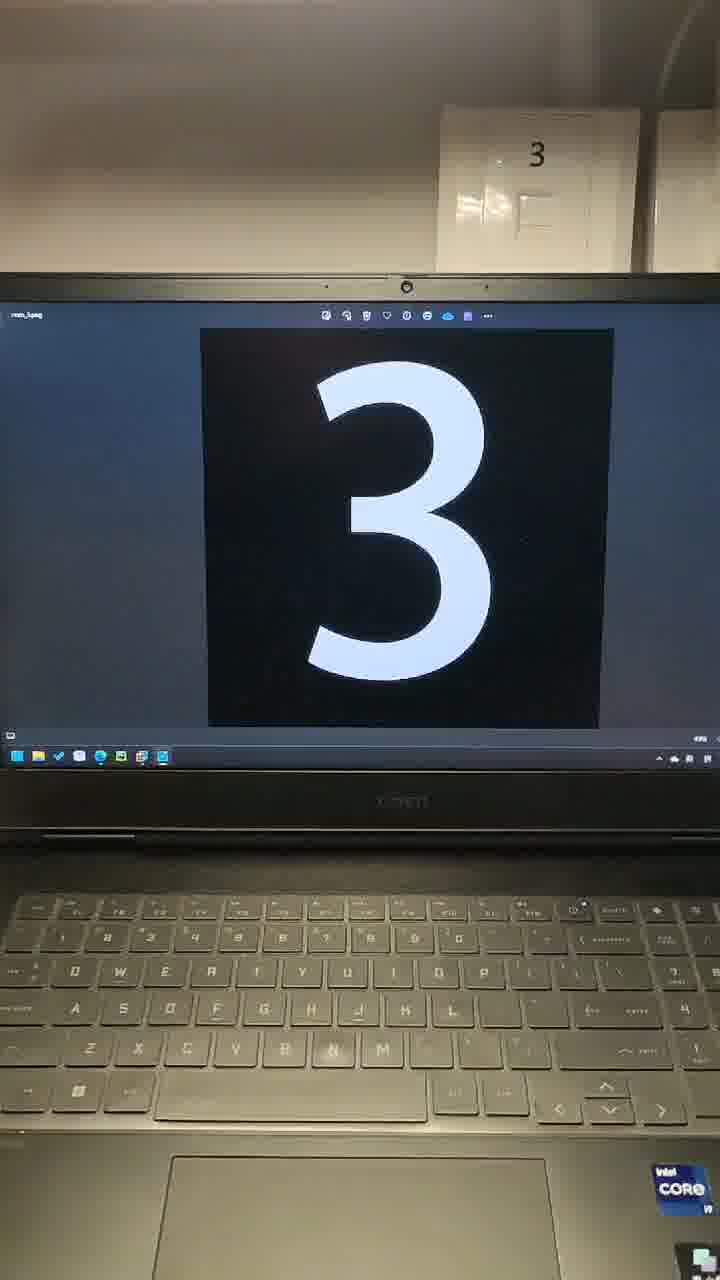three: (257, 329, 523, 683)
